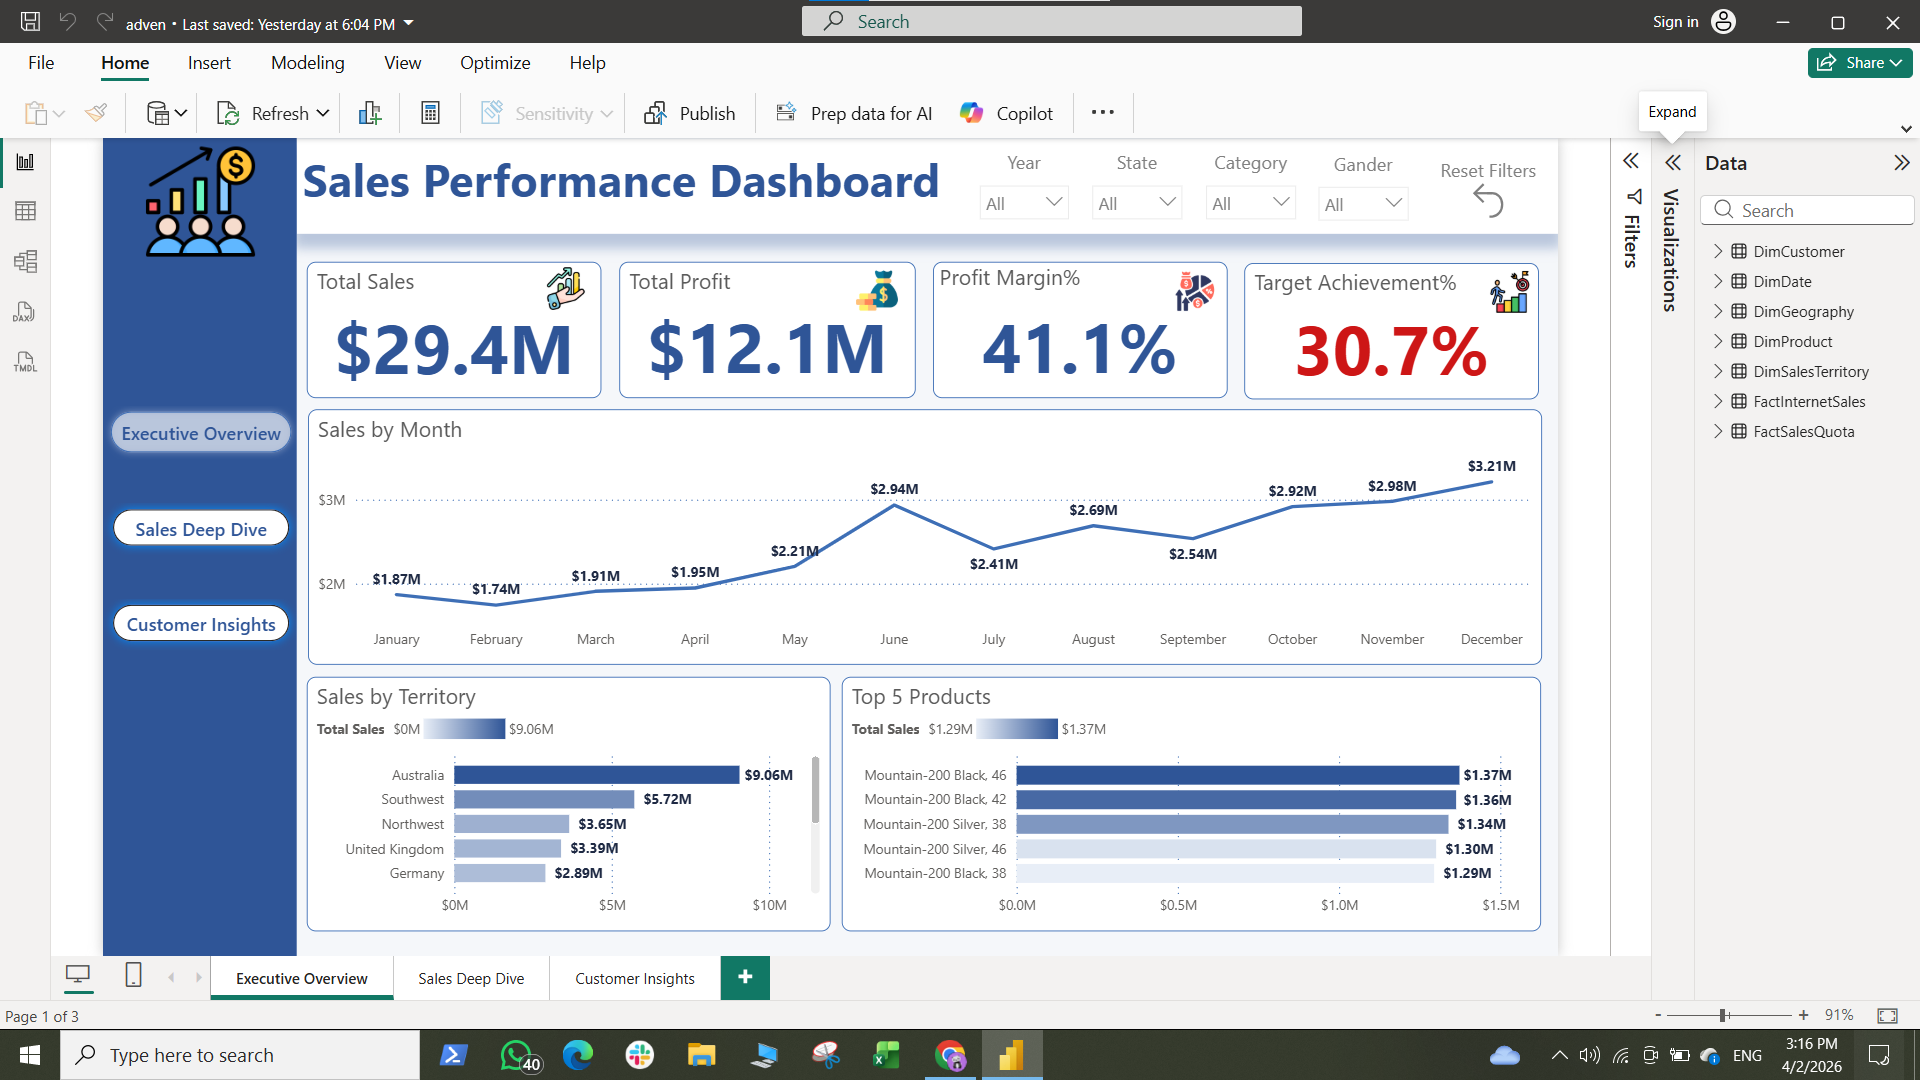

What the dashboard file says about the page in this screenshot:
{"tool":"powerbi","page":{"name":"Executive Overview","canvas":[1280,720],"ordinal":0},"visuals":[{"type":"card","title":"Total Sales","fields":{"Values":["Sum(FactInternetSales.TotalSales)"]},"box":[179,109,259.5,120.2],"z":0},{"type":"card","title":"Total Profit","fields":{"Values":["FactInternetSales.Total Profit"]},"box":[454,109.3,260.6,120.1],"z":1000},{"type":"card","title":"Profit Margin%","fields":{"Values":["FactInternetSales.Profit Margin %"]},"box":[730,109.3,259.4,120.1],"z":2000},{"type":"card","title":"Target Achievement%","fields":{"Values":["FactSalesQuota.Target Achievement %"]},"box":[1004,109.5,259.5,120.2],"z":3000},{"type":"lineChart","title":"Sales by Month","fields":{"Y":["FactInternetSales.Total Sales"],"Category":["DimDate.Month Name"]},"box":[180.1,238.9,1085.5,224.5],"z":4000},{"type":"barChart","title":"Sales by Territory","fields":{"Y":["FactInternetSales.Total Sales"],"Category":["DimSalesTerritory.Region"]},"box":[179.8,473.8,460.7,223.8],"z":5000},{"type":"barChart","title":"Top 5 Products","fields":{"Y":["Sum(FactInternetSales.TotalSales)"],"Category":["DimProduct.ProductName"]},"box":[650,473.8,615.5,223.8],"z":6000},{"type":"textbox","title":"Sales Performance Dashboard","box":[170.2,1.2,1109.5,83.3],"z":7000},{"type":"shape","box":[0,0,170.5,720.5],"z":8000},{"type":"image","box":[15.5,1.2,140.5,109.5],"z":9000},{"type":"image","box":[369.8,109.3,75,47],"z":10000},{"type":"image","box":[642.9,110.7,75,46.4],"z":11000},{"type":"image","box":[1204.8,111.9,75,46.4],"z":12000},{"type":"image","box":[928.6,110.7,75,46.4],"z":13000},{"type":"slicer","title":"Year","fields":{"Values":["DimDate.Year"]},"box":[760.7,9.5,98.8,65.5],"z":14000},{"type":"slicer","title":"State","fields":{"Values":["DimGeography.StateProvinceName"]},"box":[859.7,9.6,99.7,66],"z":15000},{"type":"slicer","title":"Category","fields":{"Values":["DimProduct.CategoryName"]},"box":[959.4,9.6,99.7,66],"z":16000},{"type":"slicer","title":"Gander ","fields":{"Values":["DimCustomer.Gender"]},"box":[1059.1,10.8,99.7,66],"z":17000},{"type":"actionButton","box":[1158.1,11.2,121.6,67],"z":18000},{"type":"pageNavigator","box":[0,229.8,178.6,228.6],"z":19000}]}

Visuals, with their boxes on the page's 1280x720 design canvas (x1, y1, x2, y2). These are canvas units, not pixel positions in the 1920x1080 screenshot, which may show the page scaled, cropped or inside an application window:
"Total Sales" card: bbox=(179, 109, 438, 229)
"Total Profit" card: bbox=(454, 109, 715, 229)
"Profit Margin%" card: bbox=(730, 109, 989, 229)
"Target Achievement%" card: bbox=(1004, 110, 1264, 230)
"Sales by Month" lineChart: bbox=(180, 239, 1266, 463)
"Sales by Territory" barChart: bbox=(180, 474, 640, 698)
"Top 5 Products" barChart: bbox=(650, 474, 1266, 698)
"Sales Performance Dashboard" textbox: bbox=(170, 1, 1280, 84)
shape: bbox=(0, 0, 170, 720)
image: bbox=(16, 1, 156, 111)
image: bbox=(370, 109, 445, 156)
image: bbox=(643, 111, 718, 157)
image: bbox=(1205, 112, 1280, 158)
image: bbox=(929, 111, 1004, 157)
"Year" slicer: bbox=(761, 10, 860, 75)
"State" slicer: bbox=(860, 10, 959, 76)
"Category" slicer: bbox=(959, 10, 1059, 76)
"Gander " slicer: bbox=(1059, 11, 1159, 77)
actionButton: bbox=(1158, 11, 1280, 78)
pageNavigator: bbox=(0, 230, 179, 458)
